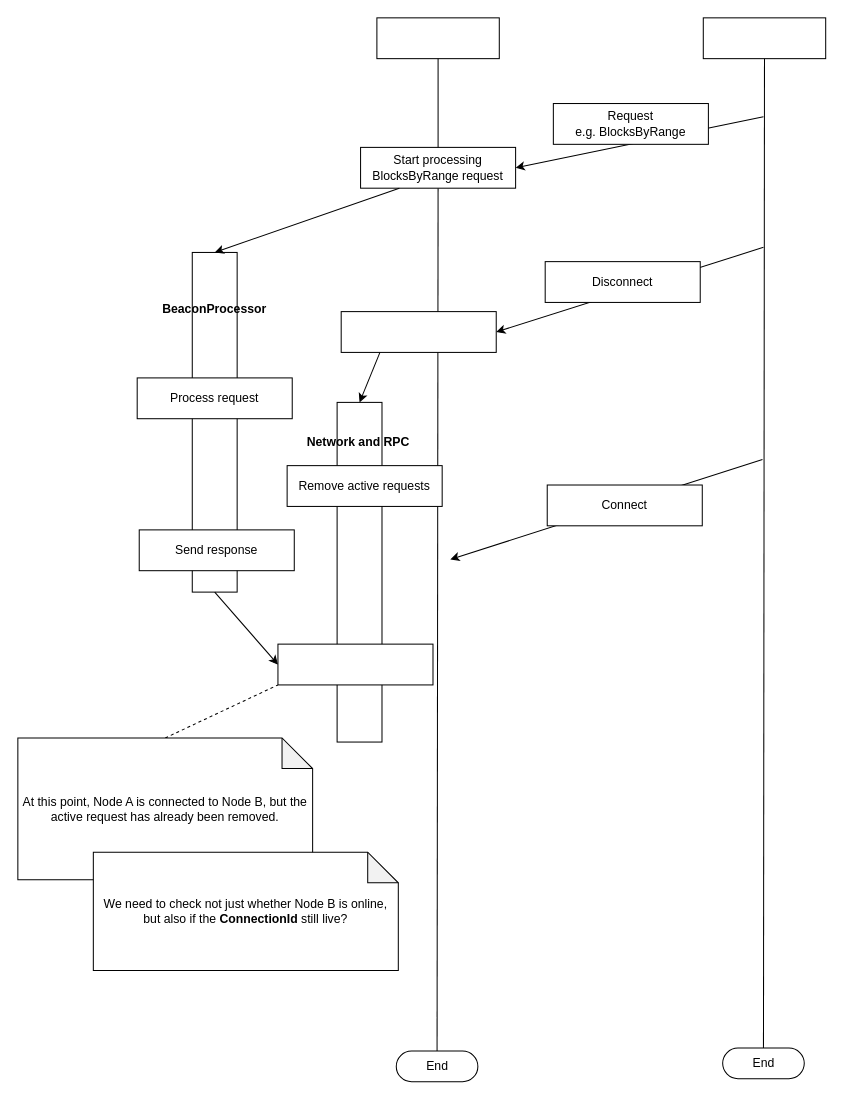
Image size: 844x1100. Some labels were removed from this diagram. The shapes that lost their labels are listed below. From the top down, each one's centre as x and y in pixels, then its label:
At (437,38): "Node A".
At (764,38): "Node B".
At (418,331): "Process disconnected event".
At (355,664): "Active requset not found".
